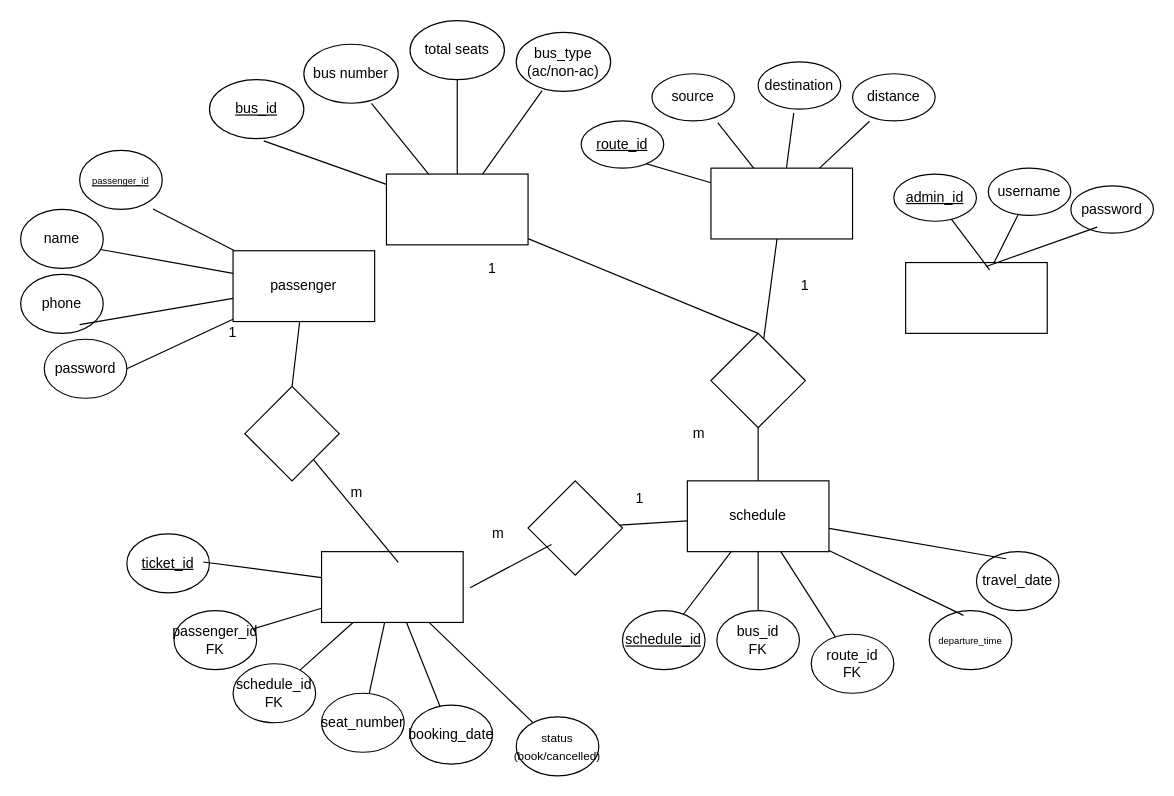
Image size: 1174x796. Some labels were removed from this diagram. Here are the shapes that lost their labels. From the top down, the box of each, then its label:
(385, 173, 528, 245): Bus
(710, 167, 853, 239): Route
(904, 261, 1047, 333): admin
(710, 332, 805, 428): runs on
(244, 385, 339, 481): can book
(527, 480, 622, 575): has
(320, 550, 463, 622): ticket
